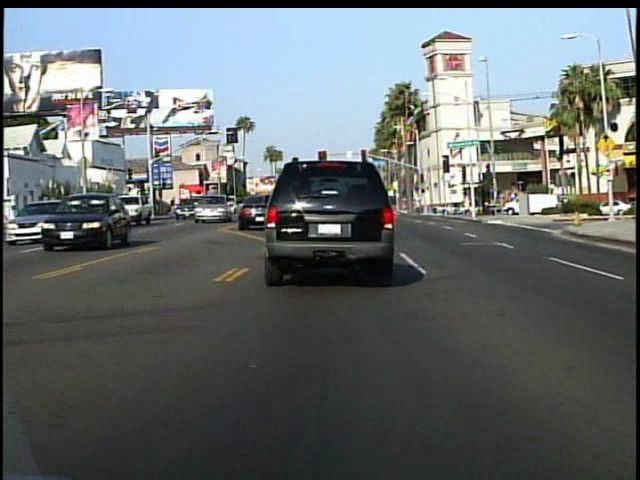person: (166, 194, 176, 221)
